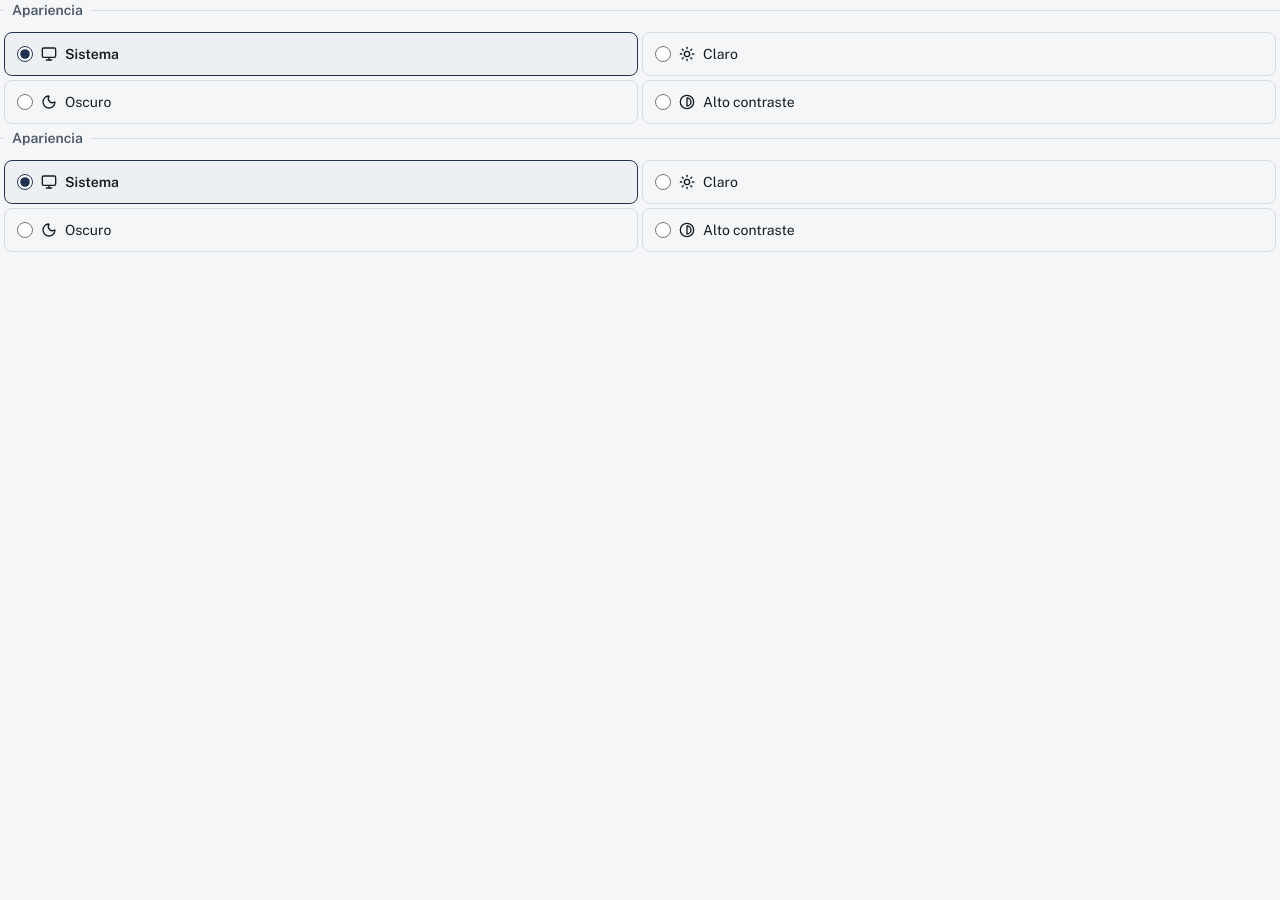
SelectorDeApariencia (US-23) › dos selectores en la página (cabecera y barra) no se pisan y se sincronizan
What coordinates should you click on to do the following:
click the 2nd radio button labelled "Alto contraste"
I would click on:
 (663, 230)
Its box is [655,222,671,238].
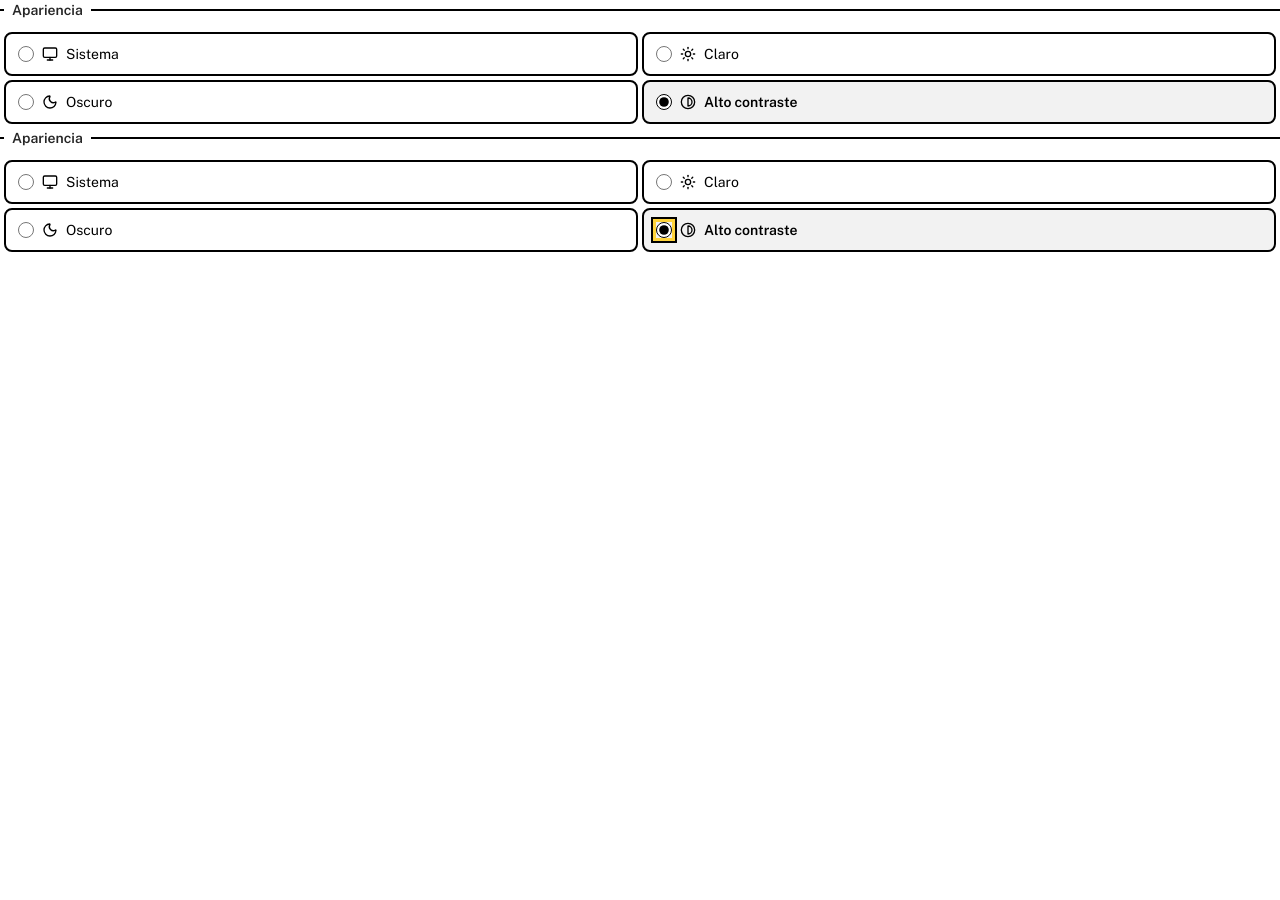
Expected: the 2nd radio button labelled "Alto contraste" is checked, [656,222,672,238]
Expected: the 1st radio button labelled "Alto contraste" is checked, [656,94,672,110]
